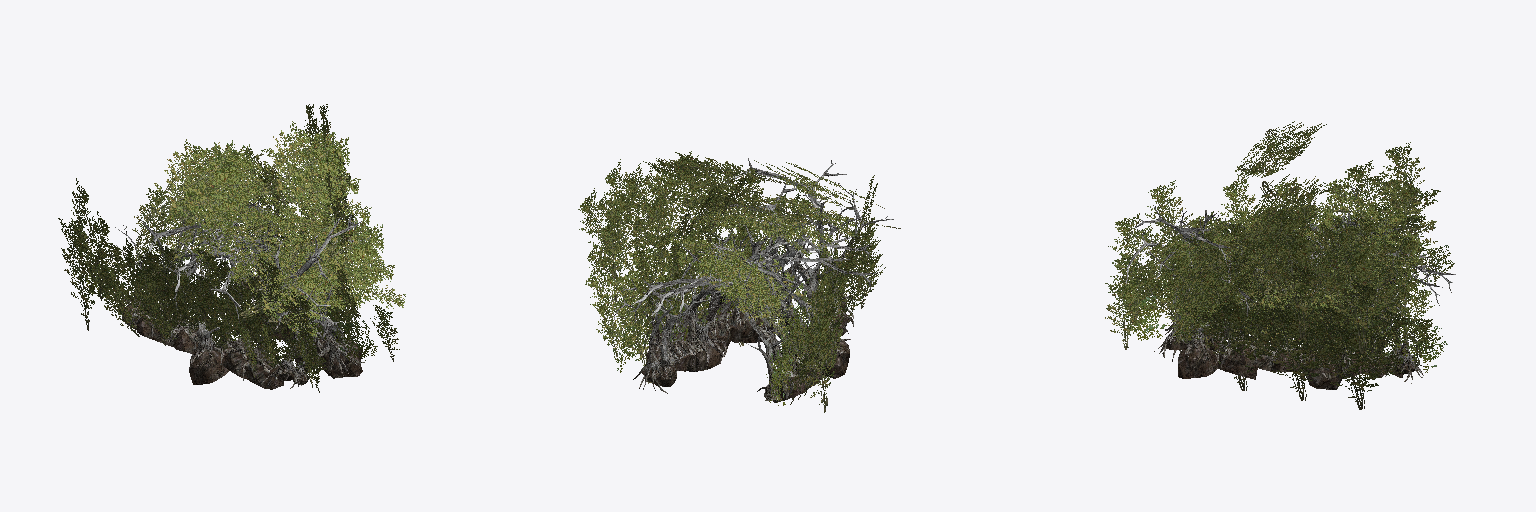
3 views of the same model, side by side, from view 1: azimuth 30°, elevation 25°; view 2: azimuth 150°, elevation 25°; view 3: azimuth 270°, elevation 25° (orthographic).
Visible parts, largest first — view 1: Material_#131, wall_03, Material_#10; view 2: Material_#131, wall_03, Material_#10; view 3: Material_#131, wall_03, Material_#10.
Part boxes in pixels (left/top/right/bottom): Material_#131: left=58, top=104, right=405, bottom=392; wall_03: left=115, top=185, right=370, bottom=388; Material_#10: left=122, top=279, right=362, bottom=389; Material_#131: left=578, top=151, right=900, bottom=412; wall_03: left=612, top=158, right=893, bottom=400; Material_#10: left=642, top=276, right=849, bottom=402; Material_#131: left=1105, top=121, right=1454, bottom=409; wall_03: left=1121, top=185, right=1455, bottom=383; Material_#10: left=1166, top=298, right=1414, bottom=389.
Size of the model in its own units: 22.14 by 20.03 by 27.82.
Materials: 6 (6 with a texture image).